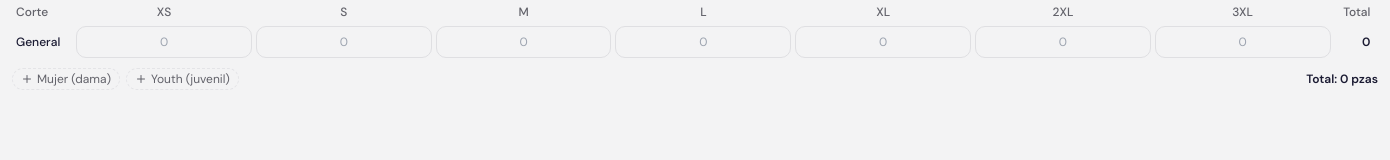
Test: SizeGrid › agrega un corte a demanda y suma entre cortes
This screenshot has width=1390, height=160.
Click the button "Mujer (dama)": x=66, y=79 [12, 68, 120, 90]
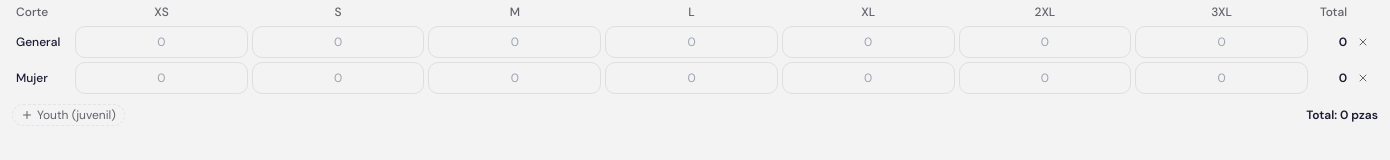
In the field named "Mujer S": x=338, y=78 [252, 62, 424, 94], type "3"
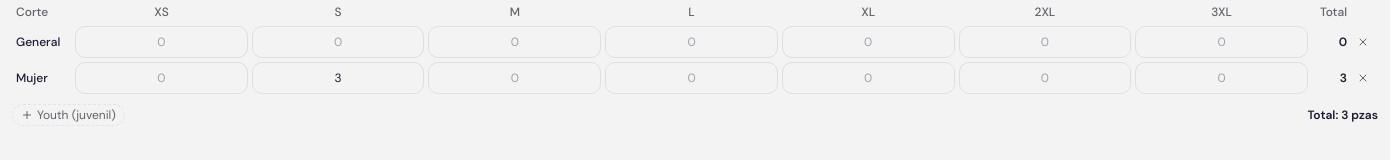
In the field named "General M": x=515, y=42 [428, 26, 601, 58], type "5"
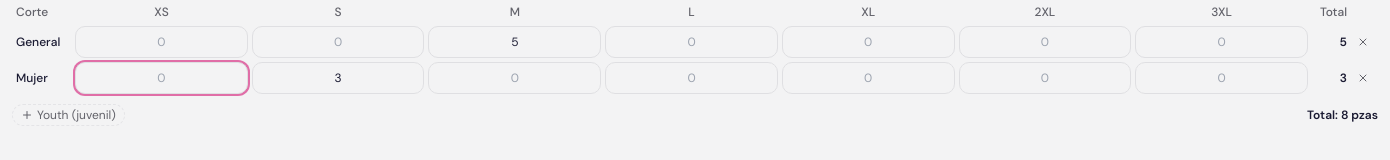
expect the text with test id "t-total" shows "8 pzas": met, box [1341, 107, 1378, 123]
